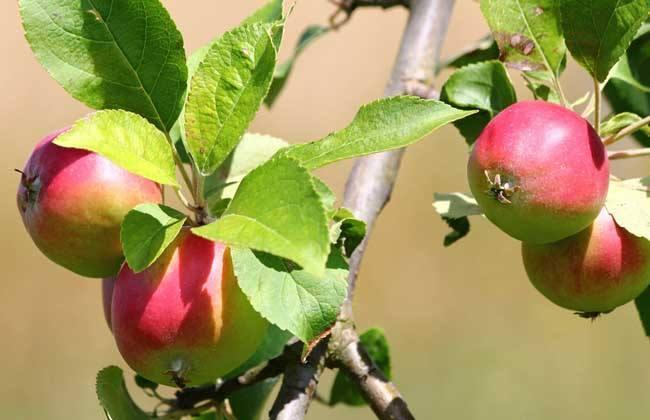apple: (109, 226, 267, 388), (16, 127, 166, 282), (466, 99, 610, 242), (524, 210, 650, 318)
